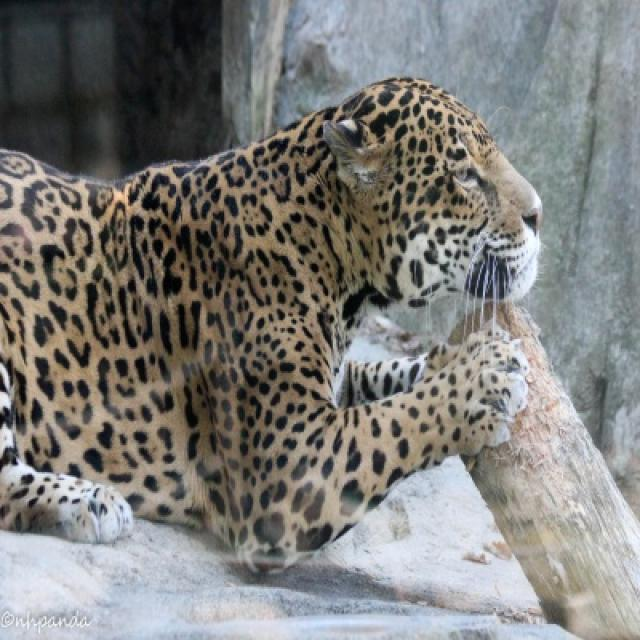Jaguar: (0, 77, 638, 638)
